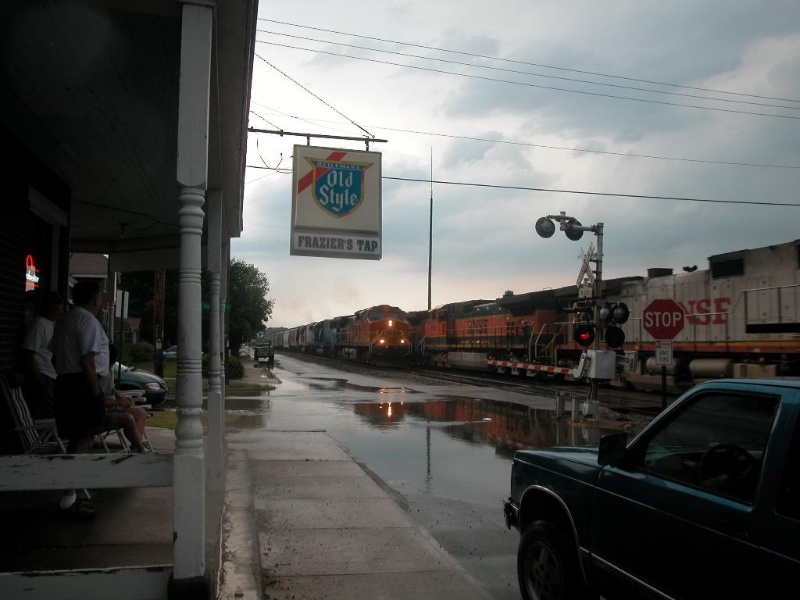stop: (639, 293, 686, 340)
